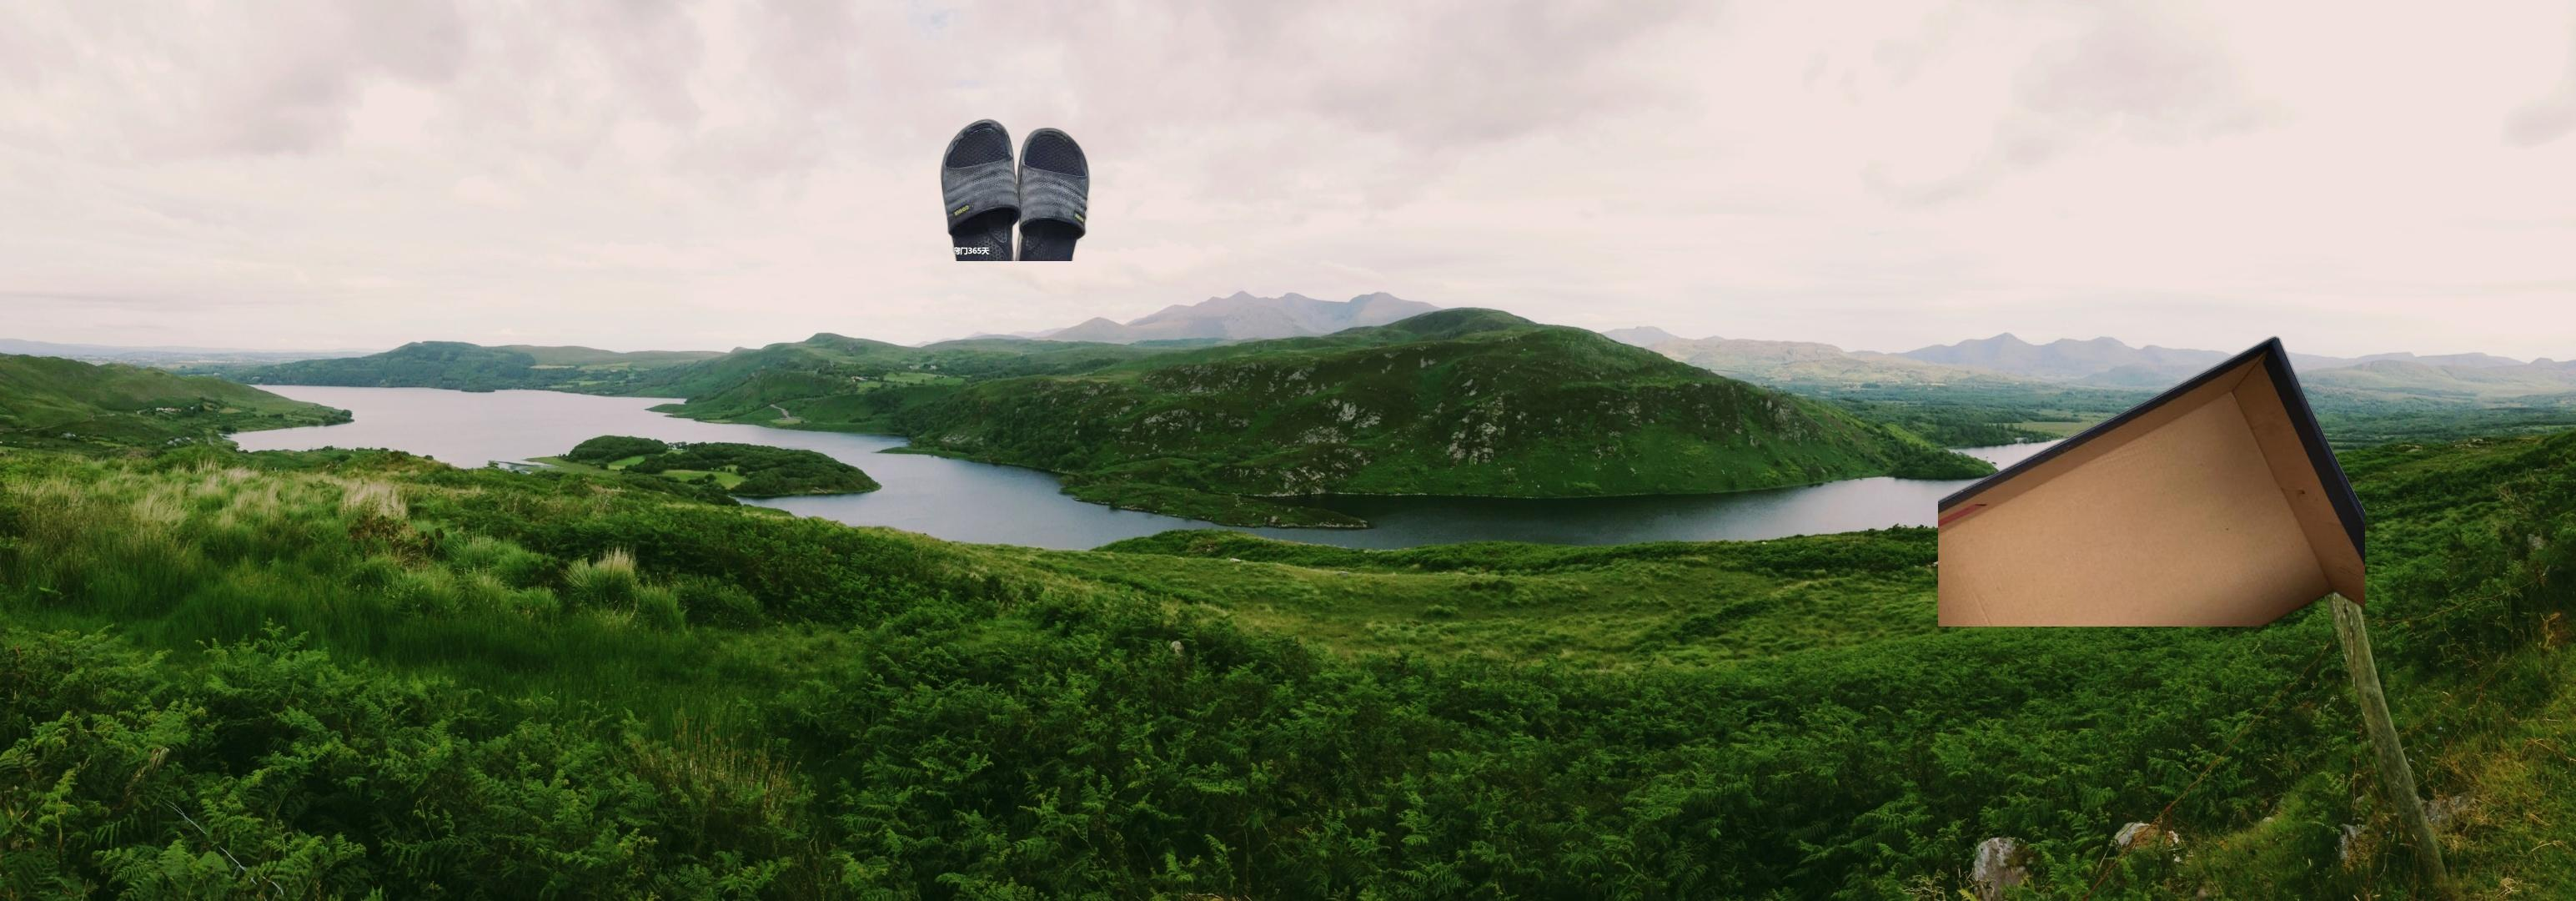shoes: (904, 117, 1092, 261)
trashbox-cardboard: (1939, 332, 2366, 626)
